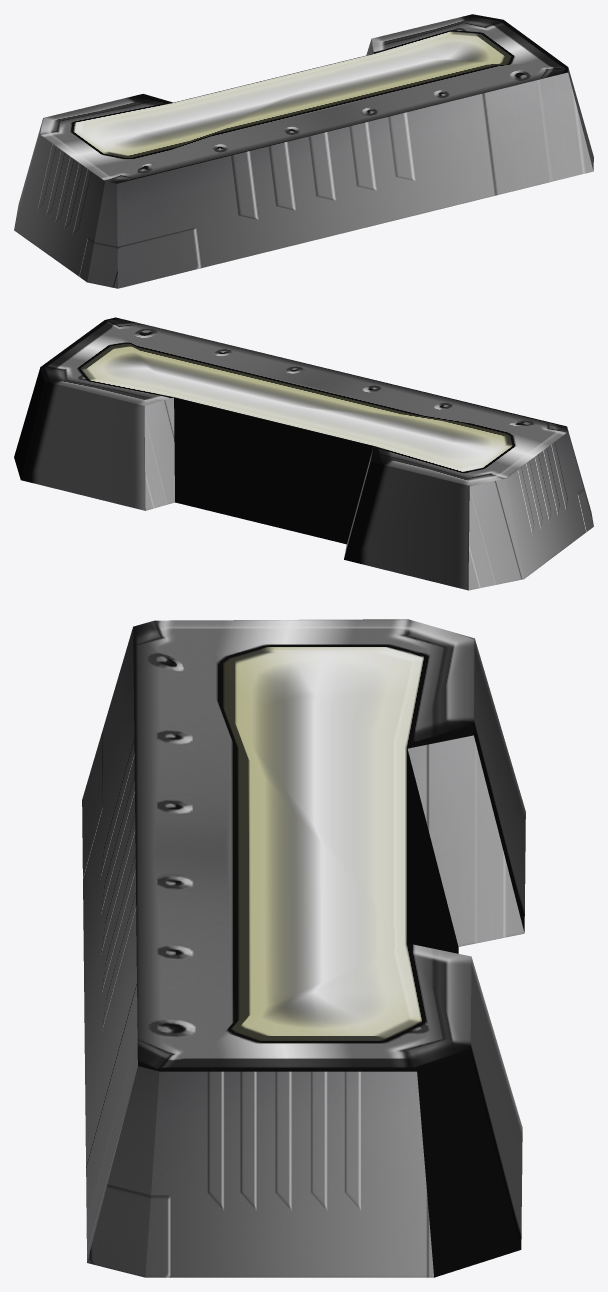
Rendered from light_5.FBX.
3 views of the same model, one above another, from view 1: azimuth 30°, elevation 25°; view 2: azimuth 150°, elevation 25°; view 3: azimuth 270°, elevation 25° (orthographic). The views are drawn at different scales.
Parts seen in each view (by area): view 1: light_5; view 2: light_5; view 3: light_5.
Part boxes in pixels (<box>): light_5: <box>14,14,593,288</box>; light_5: <box>14,317,593,590</box>; light_5: <box>82,619,525,1277</box>.
Bounding box in the file's own units: 54.78 × 9.52 × 20.74.
1 material, 1 textured.
